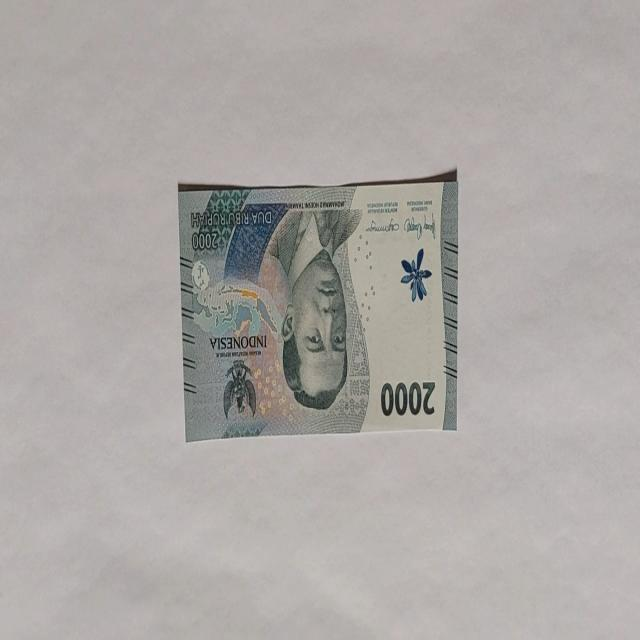dua ribu rupiah: (177, 170, 459, 440), (264, 206, 364, 414)
